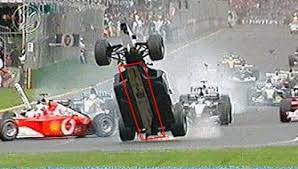FormulaOneCar: (2, 96, 114, 140)
